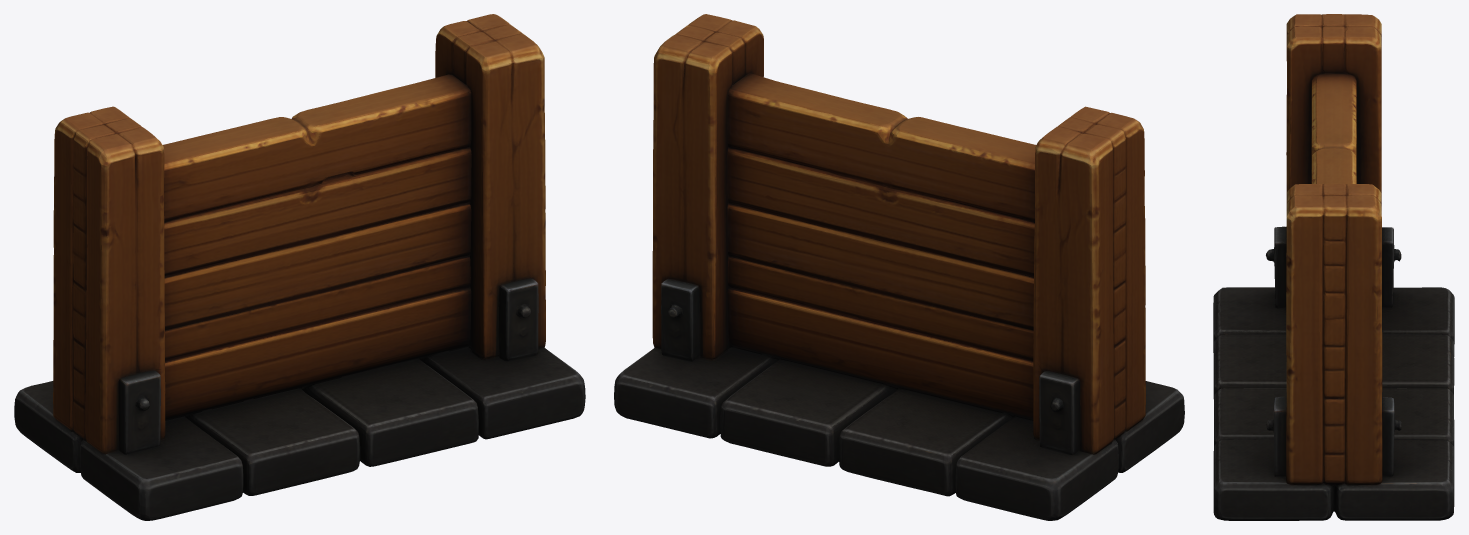
File: WoodenWall.glb
3 renders of one model, left to right at view 1: azimuth 30°, elevation 25°; view 2: azimuth 150°, elevation 25°; view 3: azimuth 270°, elevation 25°, orthographic. The views are drawn at different scales.
Parts seen in each view (by area): view 1: world; view 2: world; view 3: world.
Part boxes in pixels (left/top/right/bottom): world: left=14, top=14, right=585, bottom=520; world: left=614, top=14, right=1184, bottom=520; world: left=1213, top=14, right=1454, bottom=520.
Bounding box in the file's own units: 1 × 0.7335 × 0.5116.
Materials: 1 (1 with a texture image).
